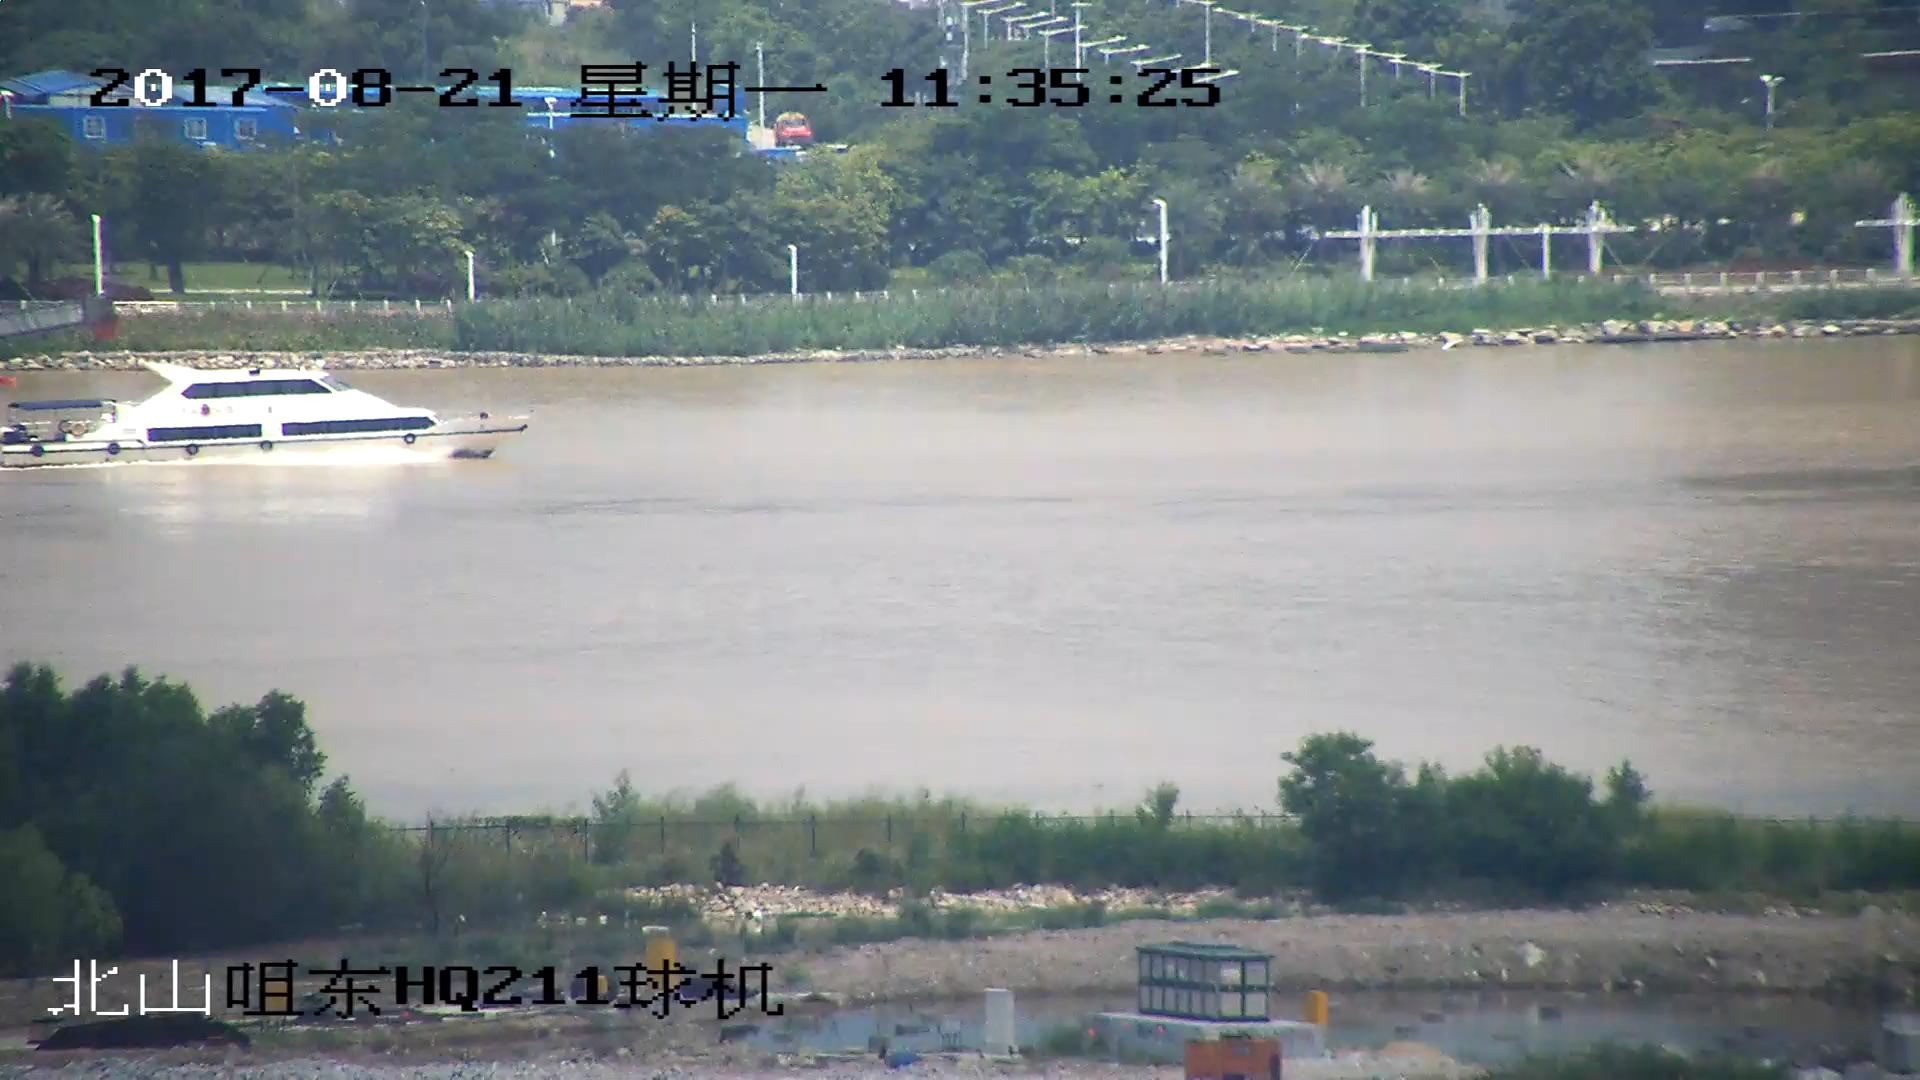passenger ship: (1, 351, 534, 473)
